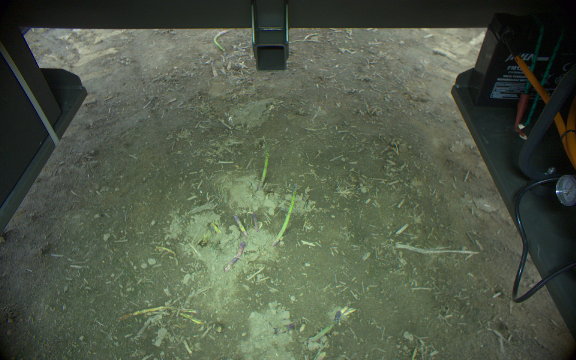aspa: (272, 183, 299, 246), (309, 310, 342, 343), (257, 146, 271, 190), (214, 29, 232, 53), (232, 212, 247, 238), (250, 211, 260, 231), (224, 259, 238, 272), (236, 240, 245, 256)
